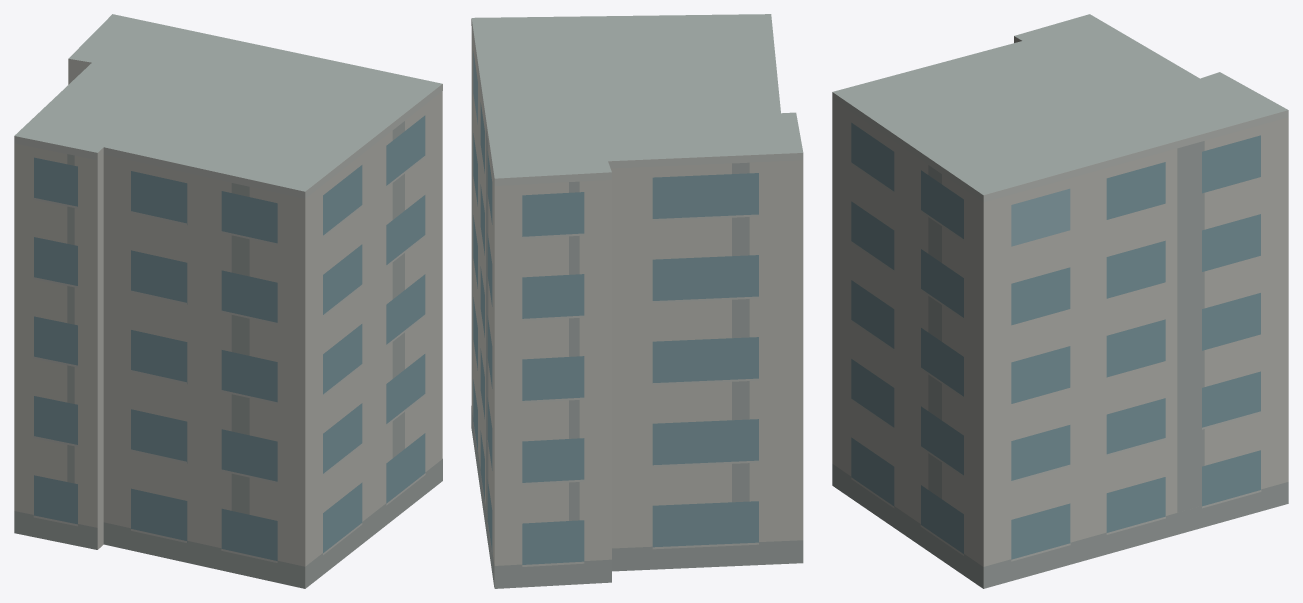
The model's file is survey-upis-32724555.glb.
3 views of the same model, side by side, from view 1: azimuth 30°, elevation 25°; view 2: azimuth 150°, elevation 25°; view 3: azimuth 270°, elevation 25° (orthographic). The views are drawn at different scales.
Visible parts, largest first — view 1: survey-upis-32724555.tmp; view 2: survey-upis-32724555.tmp; view 3: survey-upis-32724555.tmp.
Boxes of the visible parts, x1,y1,x2,y2 form: survey-upis-32724555.tmp: (14, 14, 442, 588); survey-upis-32724555.tmp: (471, 14, 803, 588); survey-upis-32724555.tmp: (832, 14, 1288, 588).
Bounding box in the file's own units: 13.1 × 13.25 × 13.93.
